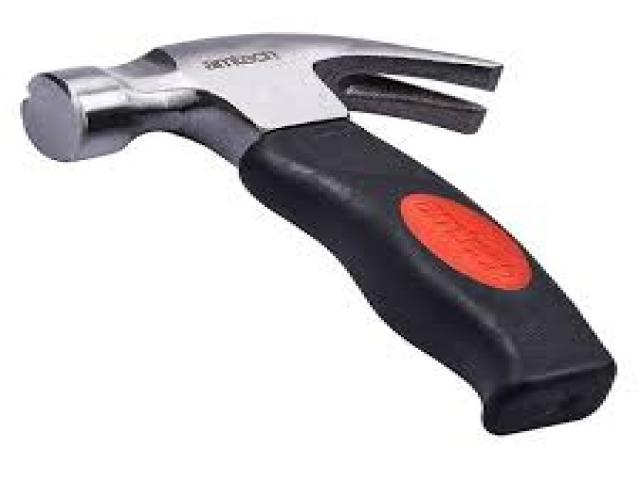Pliers: (22, 34, 612, 434)
